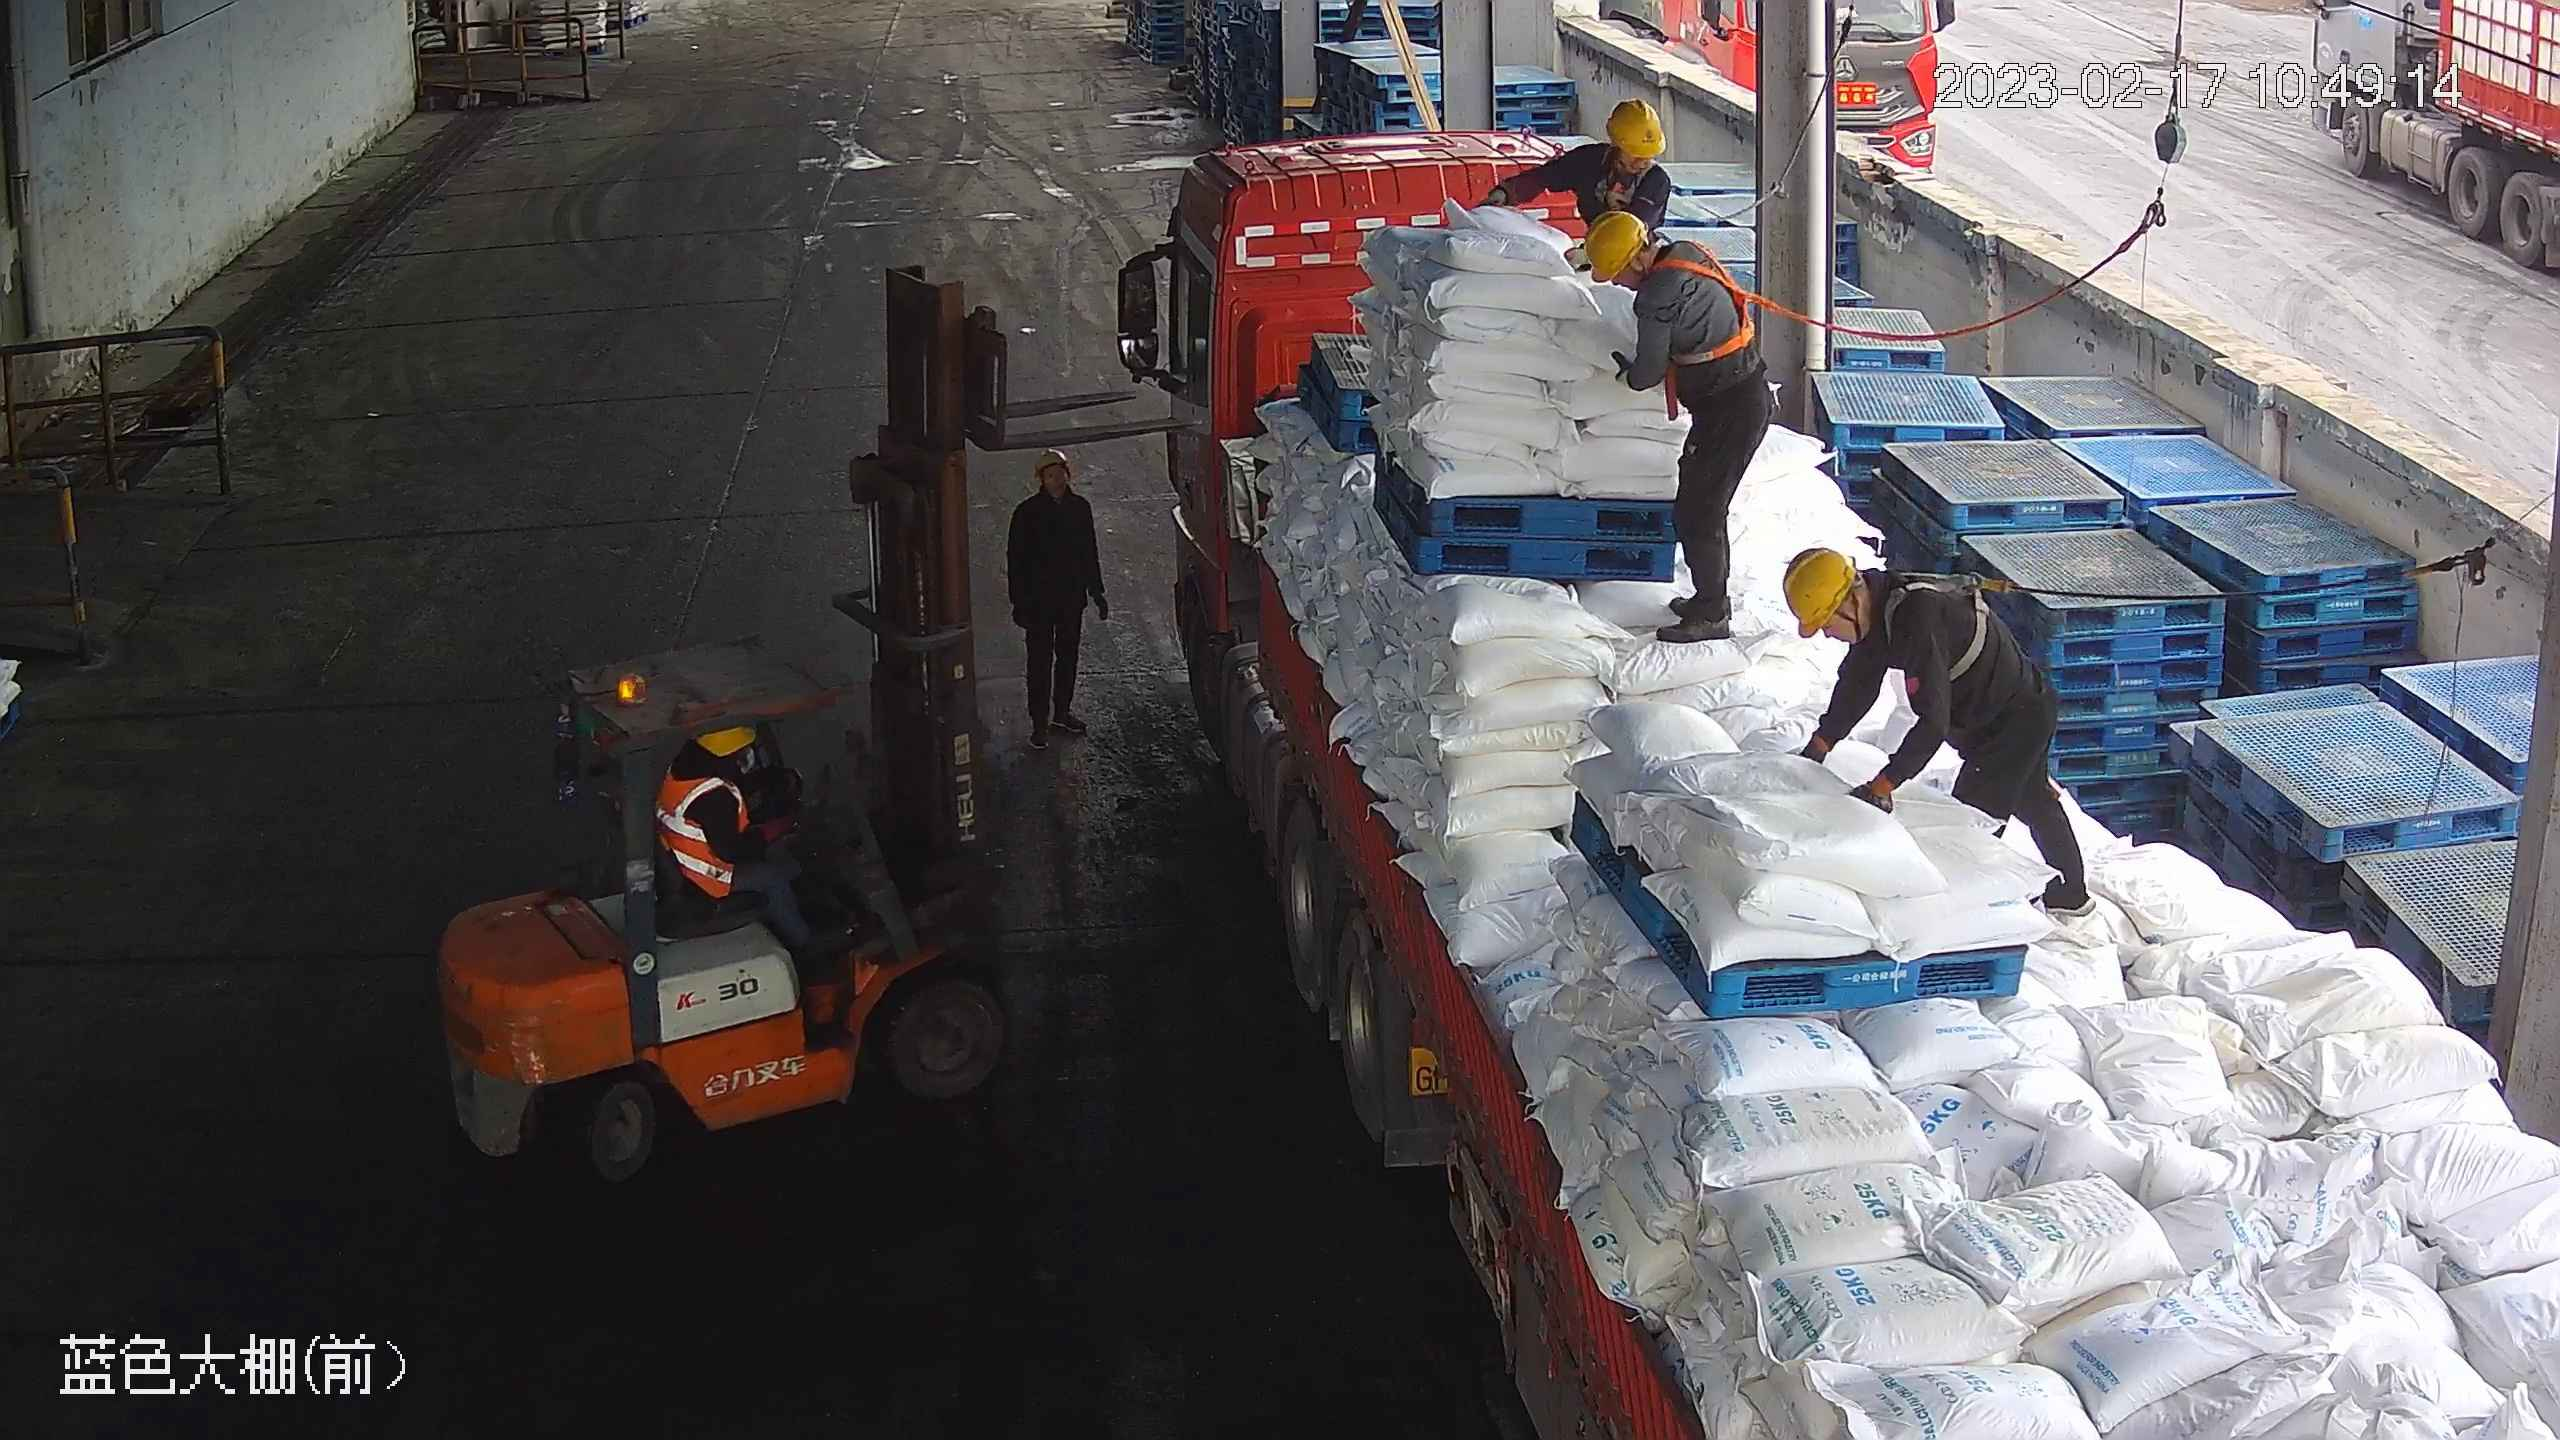belt: (1860, 571, 2007, 686), (1651, 237, 1766, 375), (1589, 145, 1650, 210)
head: (1781, 541, 1954, 667), (1583, 210, 1736, 325), (1556, 93, 1673, 203), (662, 729, 761, 817), (1010, 448, 1094, 528)
helmet: (1779, 543, 1857, 639), (1584, 209, 1650, 283), (1604, 96, 1666, 157), (1037, 448, 1074, 476)
people: (1782, 544, 2092, 917), (1578, 208, 1778, 645), (660, 722, 835, 941), (1002, 445, 1109, 745)
truck: (1115, 130, 2556, 1440)
